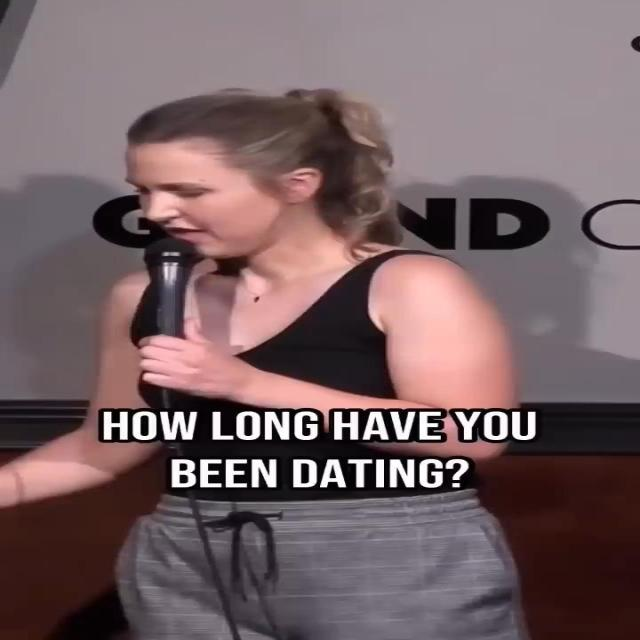NO-Mask: (127, 139, 280, 257)
